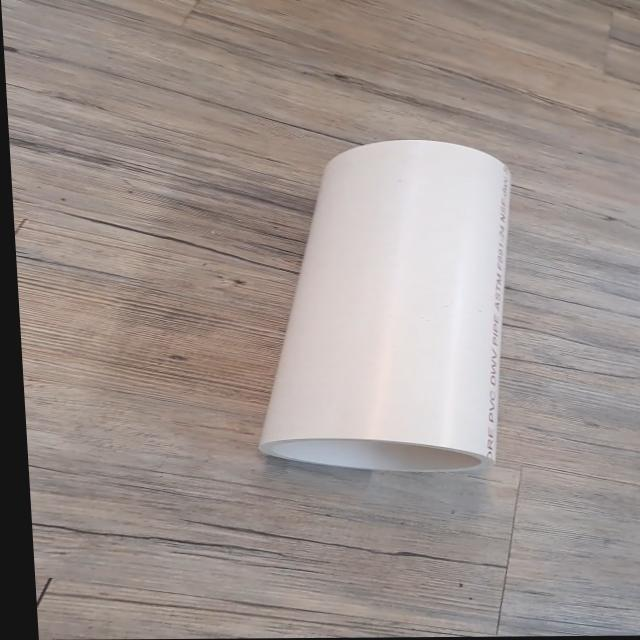CORAL: (231, 133, 540, 481)
